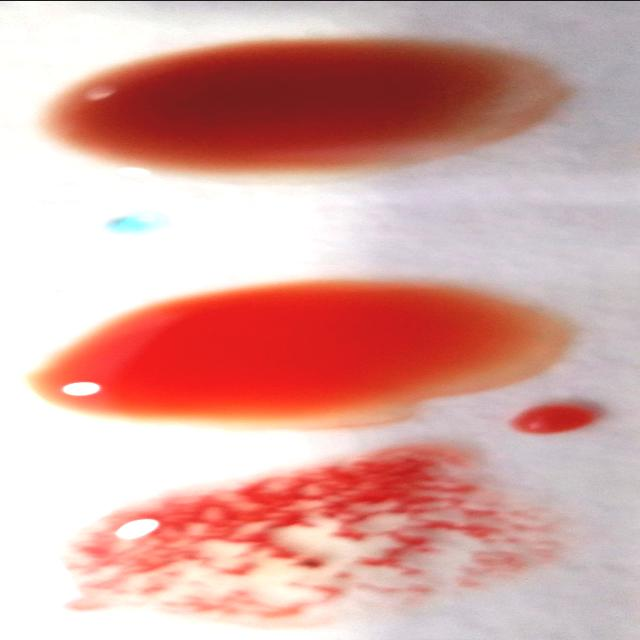D: (64, 472, 552, 618)
